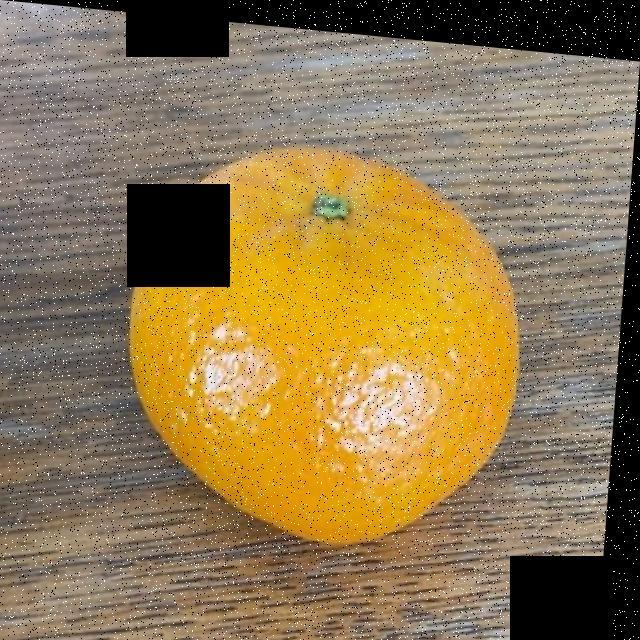mandarine: (133, 141, 524, 535)
